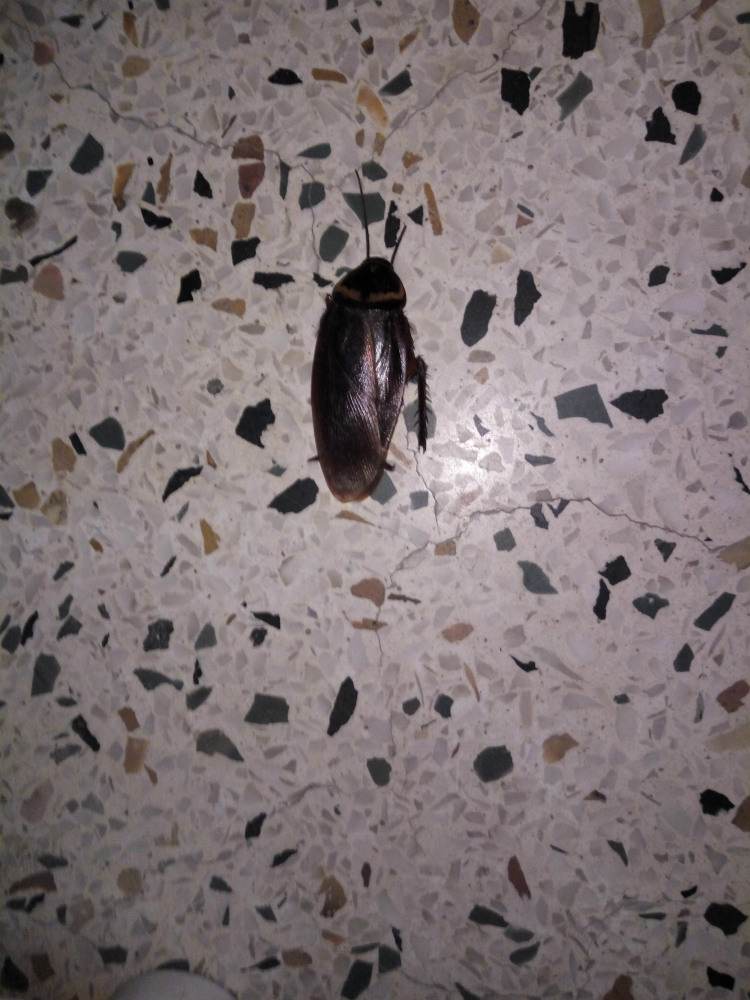cockroach: (263, 172, 486, 522)
